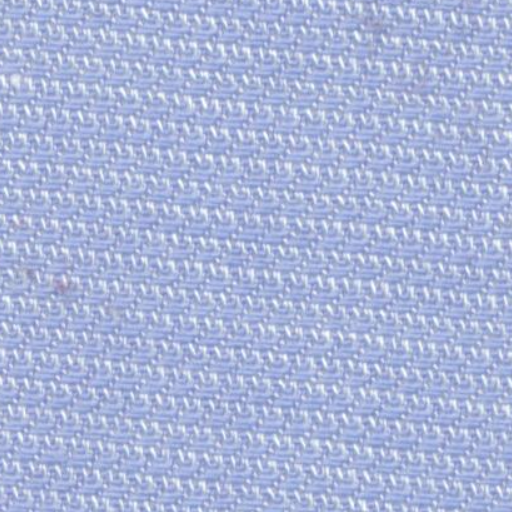WuZi: (8, 260, 86, 307), (352, 8, 402, 43)
